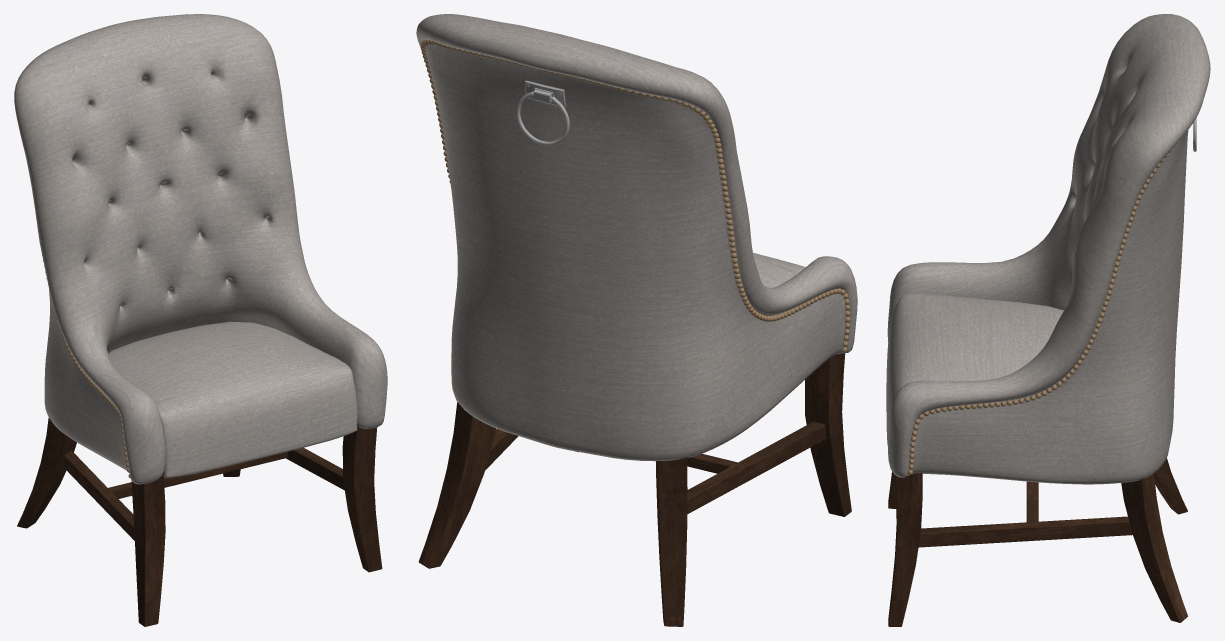
File: abo-B07QGWLBCV.glb
3 views of the same model, side by side, from view 1: azimuth 30°, elevation 25°; view 2: azimuth 150°, elevation 25°; view 3: azimuth 270°, elevation 25° (orthographic). The views are drawn at different scales.
Size of the model in its own units: 0.634 by 1.09 by 0.6289.
Materials: 1 (1 with a texture image).
